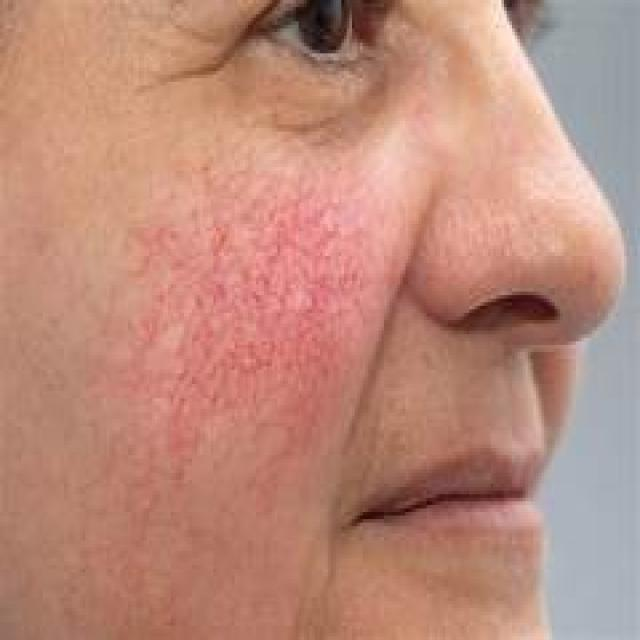Rosacea: (174, 201, 351, 378)
